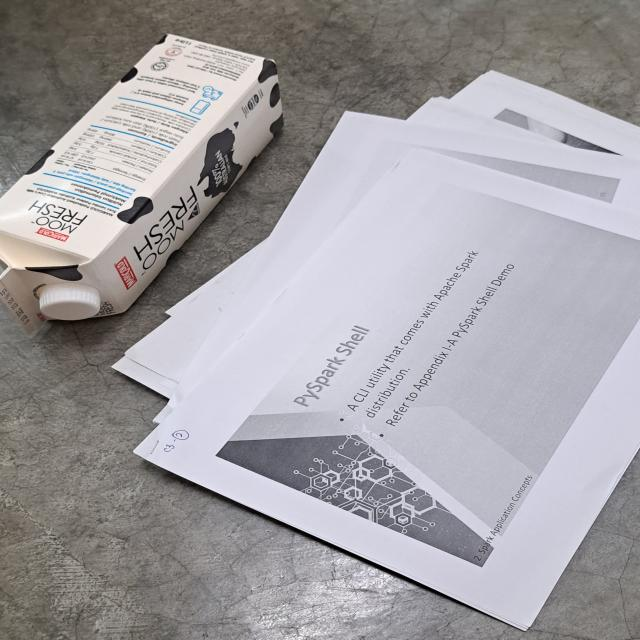drink carton: (0, 34, 285, 317)
paper: (115, 67, 640, 631)
plastic bottle cap: (36, 284, 103, 321)
